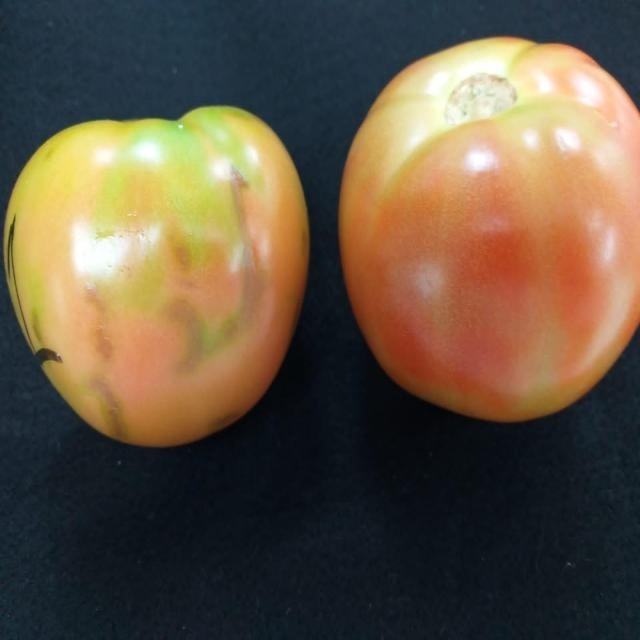T_S_R: (340, 38, 640, 421), (6, 108, 310, 448)
